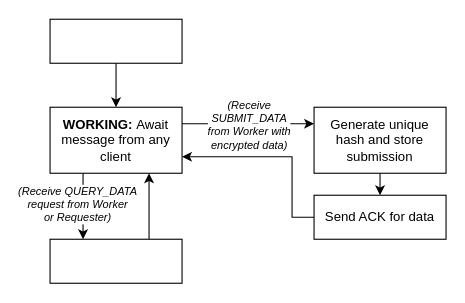
Image size: 465x303. Some labels were removed from this diagram. Here are the shapes that lost their labels. From the top down, the centre of each, then its label:
At [115,40]: "INIT : Initialize local variables and setup".
At [115,260]: "Send DATA with encrypted data".
